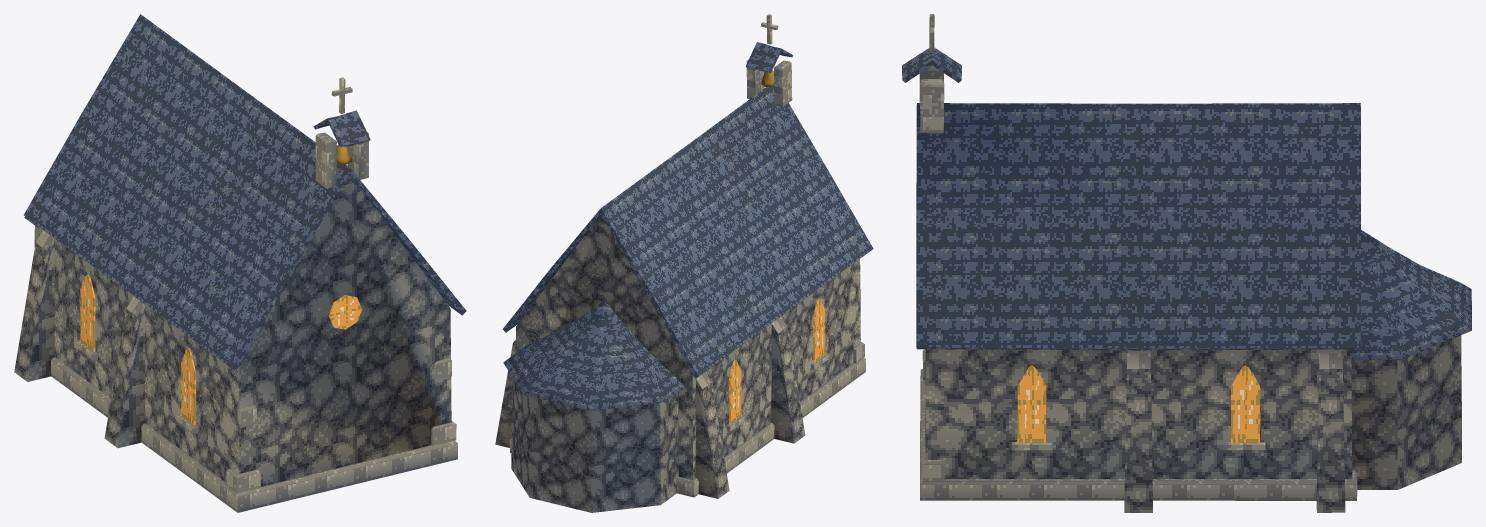
File: vlg.chapel__doorway.glb
The picture shows the model from 3 angles, left to right: view 1: azimuth 30°, elevation 25°; view 2: azimuth 150°, elevation 25°; view 3: azimuth 270°, elevation 25°; orthographic projection. The views are drawn at different scales.
Parts seen in each view (by area): view 1: kit_roof, kit_walls, kit_stonework, kit_fittings; view 2: kit_roof, kit_walls, kit_stonework, kit_fittings; view 3: kit_roof, kit_walls, kit_stonework, kit_fittings.
Part boxes in pixels (x1,y1,x2,y2): kit_roof: [24, 14, 466, 370]; kit_walls: [34, 174, 451, 486]; kit_stonework: [14, 132, 457, 512]; kit_fittings: [75, 77, 361, 433]; kit_roof: [503, 42, 873, 410]; kit_walls: [511, 215, 860, 512]; kit_stonework: [495, 59, 865, 498]; kit_fittings: [727, 14, 829, 431]; kit_roof: [902, 47, 1471, 359]; kit_walls: [925, 335, 1461, 489]; kit_stonework: [919, 65, 1357, 512]; kit_fittings: [929, 14, 1265, 450].
Bounding box in the file's own units: 6.91 × 9.98 × 12.
Materials: 5 (4 with a texture image).
